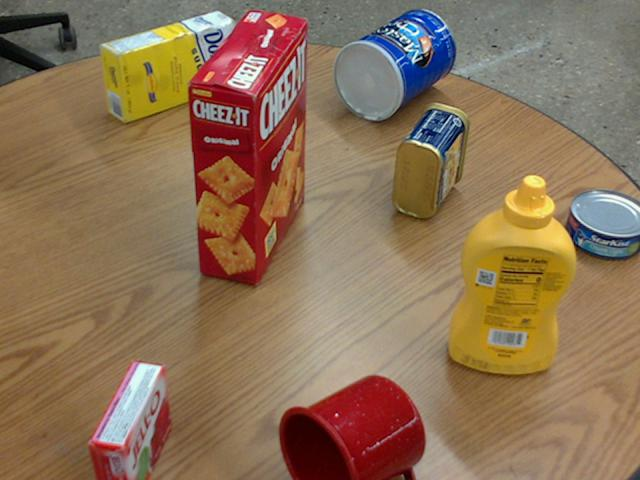cracker_box: (188, 10, 308, 284)
gelatin_box: (82, 361, 166, 479)
master_chef_can: (332, 9, 454, 119)
mug: (275, 375, 423, 479)
mustard_bottle: (446, 175, 574, 373)
potted_meat_can: (392, 102, 468, 217)
sugar_box: (100, 9, 237, 120)
tuna_fish_can: (563, 189, 639, 259)
